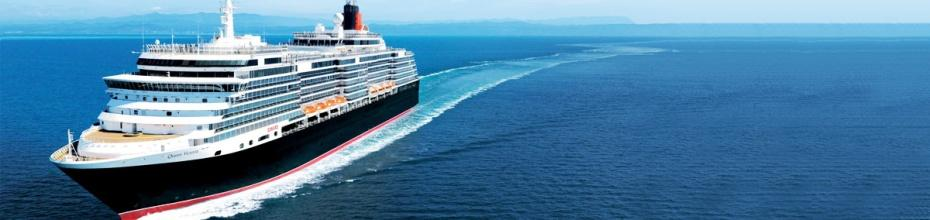youlun: (50, 1, 428, 217)
